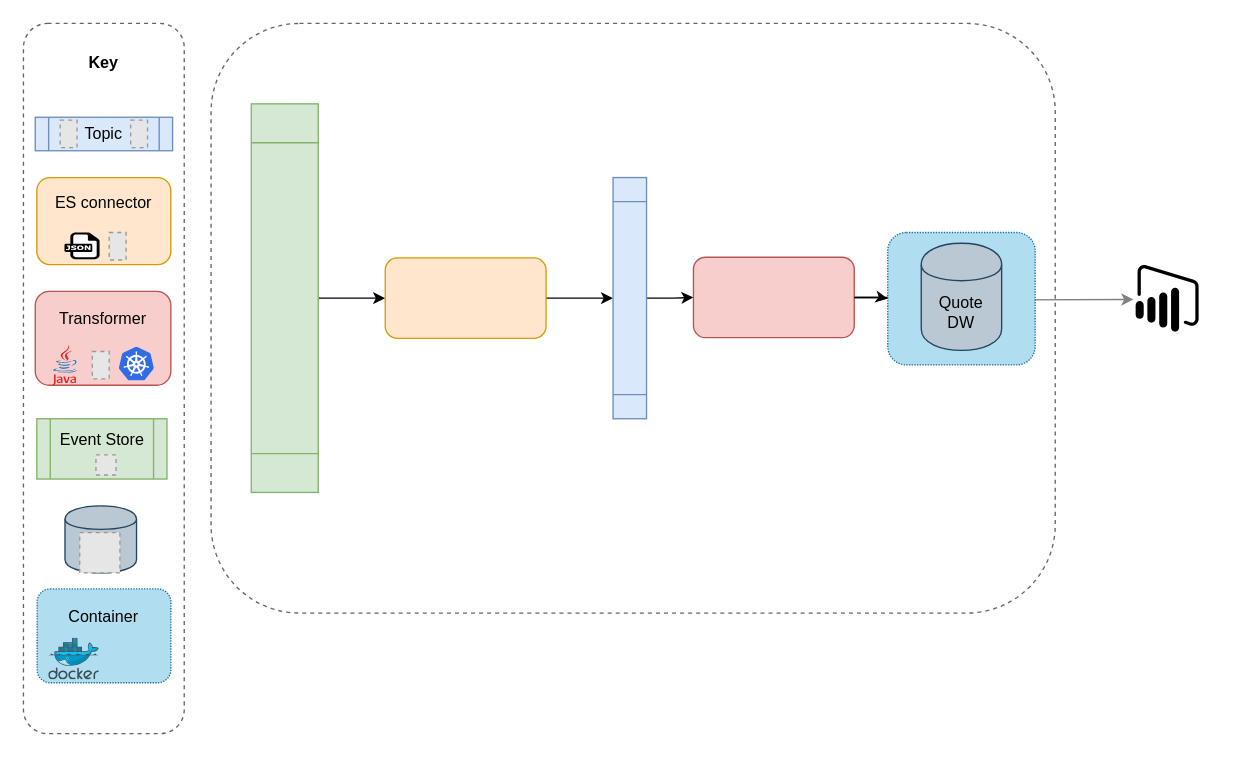
Image size: 1233x757. Some labels were removed from this diagram. Grey dashed boxes stand in for pictures. Each missing label, with the centre of its shape:
Analytics BI Dashboard: (x=1166, y=297)
quote_event_stream ingestion: (x=465, y=297)
quote_event_stream transformer: (x=773, y=297)
